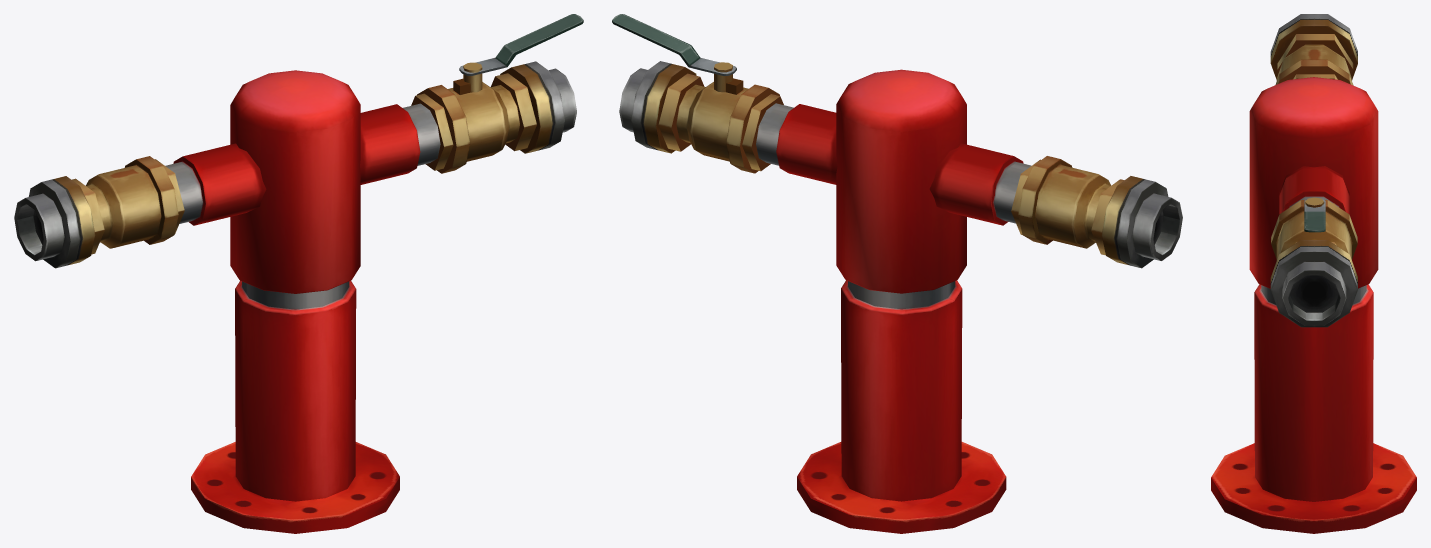
File: xiaofangshuan.fbx
3 renders of one model, left to right at view 1: azimuth 30°, elevation 25°; view 2: azimuth 150°, elevation 25°; view 3: azimuth 270°, elevation 25°, orthographic.
Parts seen in each view (by area): view 1: xiaofangshuan; view 2: xiaofangshuan; view 3: xiaofangshuan.
Boxes of the visible parts, bbox=[...] form: xiaofangshuan: bbox=[14, 14, 583, 533]; xiaofangshuan: bbox=[612, 14, 1182, 533]; xiaofangshuan: bbox=[1211, 14, 1416, 533].
Bounding box in the file's own units: 72.14 × 50.73 × 23.71.
